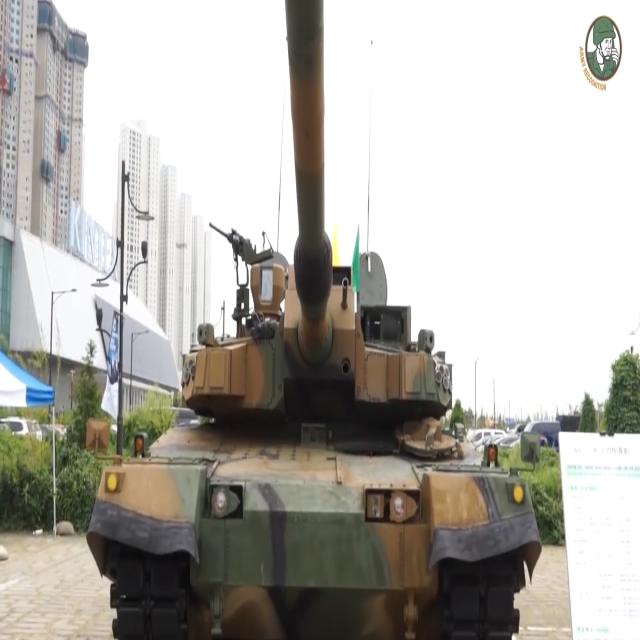korea tank: (82, 1, 544, 640)
